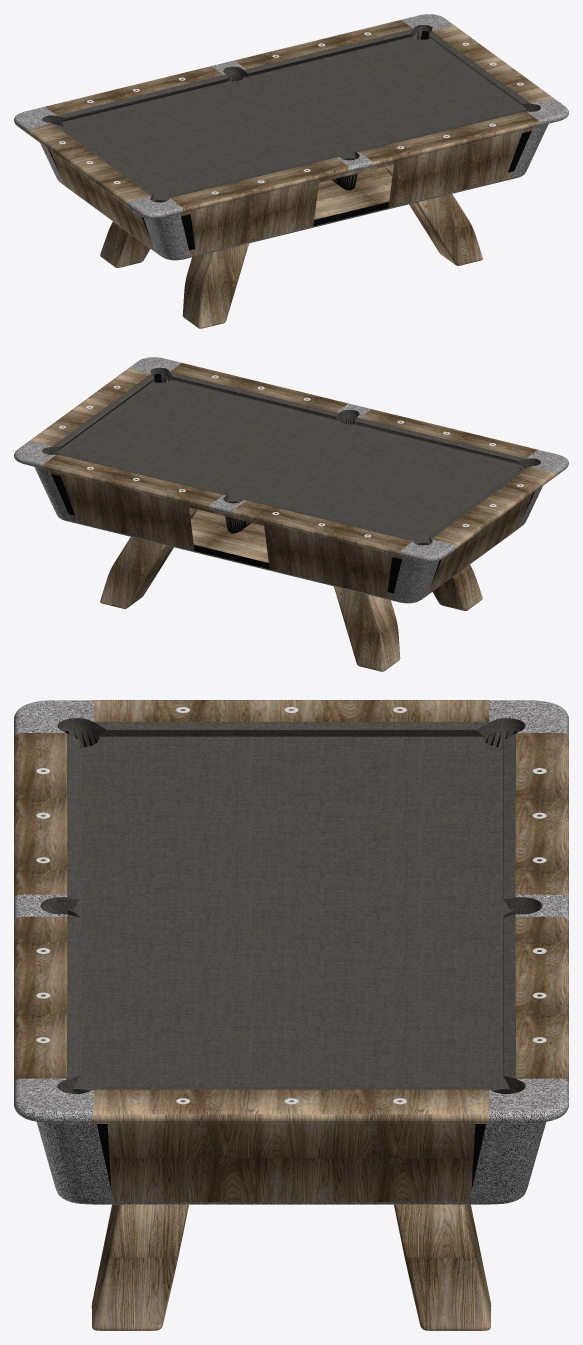
File: PoolTable.glb
3 renders of one model, top to bottom at view 1: azimuth 30°, elevation 25°; view 2: azimuth 150°, elevation 25°; view 3: azimuth 270°, elevation 25°, orthographic. The views are drawn at different scales.
Parts seen in each view (by area): view 1: PoolTable; view 2: PoolTable; view 3: PoolTable.
Boxes of the visible parts, x1=… form: PoolTable: x1=14, y1=14, x2=568, y2=328; PoolTable: x1=14, y1=357, x2=568, y2=671; PoolTable: x1=14, y1=700, x2=568, y2=1330.
Bounding box in the file's own units: 29.61 × 9.58 × 16.72.
Materials: 5 (3 with a texture image).
